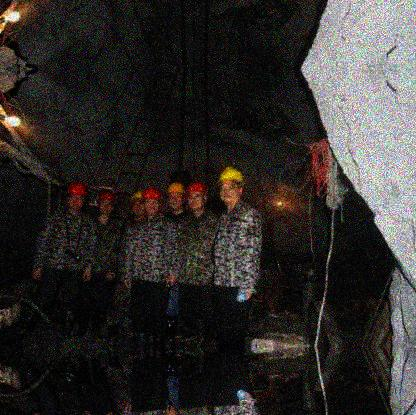helmet: (215, 167, 245, 203), (65, 181, 88, 209), (184, 182, 207, 209), (166, 181, 185, 210), (95, 191, 117, 215), (142, 189, 163, 214), (128, 191, 144, 216)
